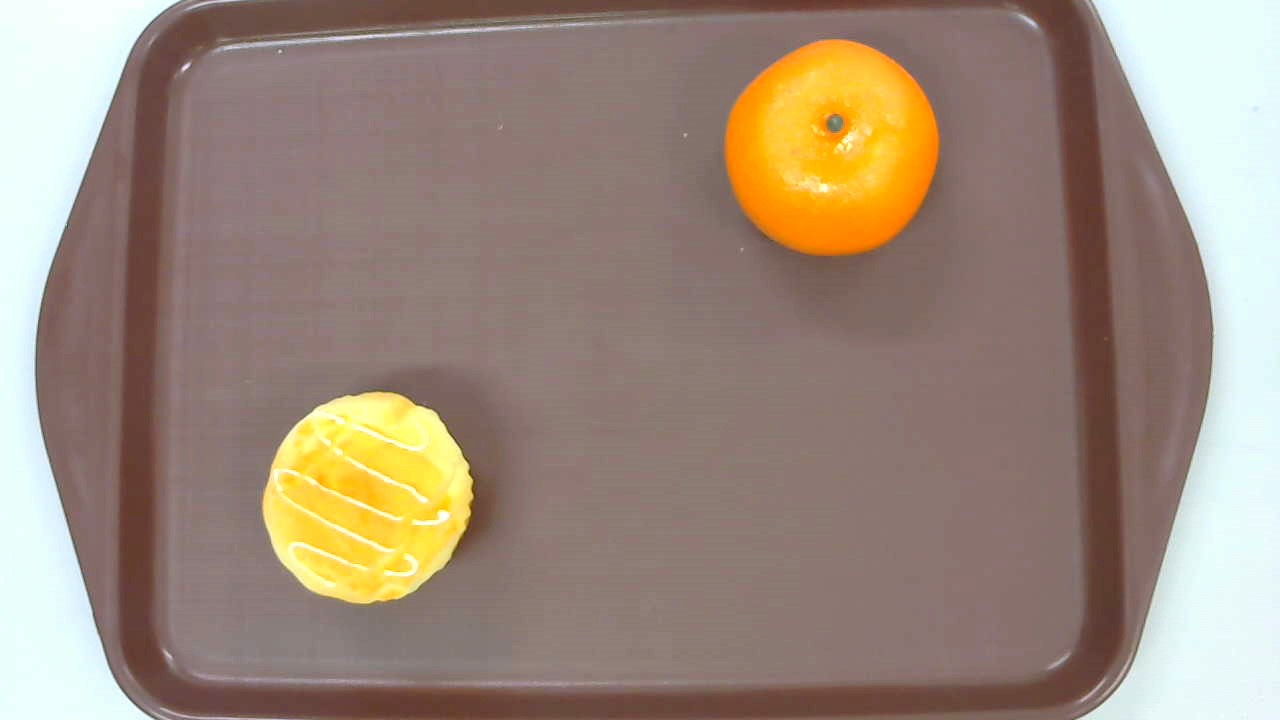cupcake: (262, 391, 474, 605)
orange: (722, 39, 940, 255)
